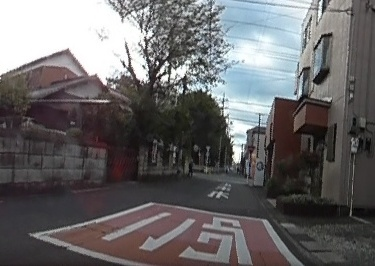person: (187, 156, 195, 178)
